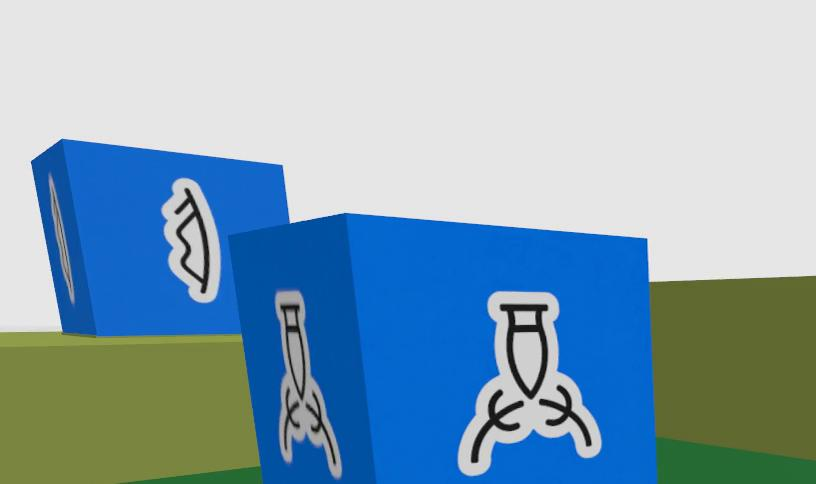KFS_REAL: (229, 214, 655, 484), (32, 140, 287, 337), (458, 291, 602, 476), (276, 290, 341, 479), (163, 178, 223, 302)
